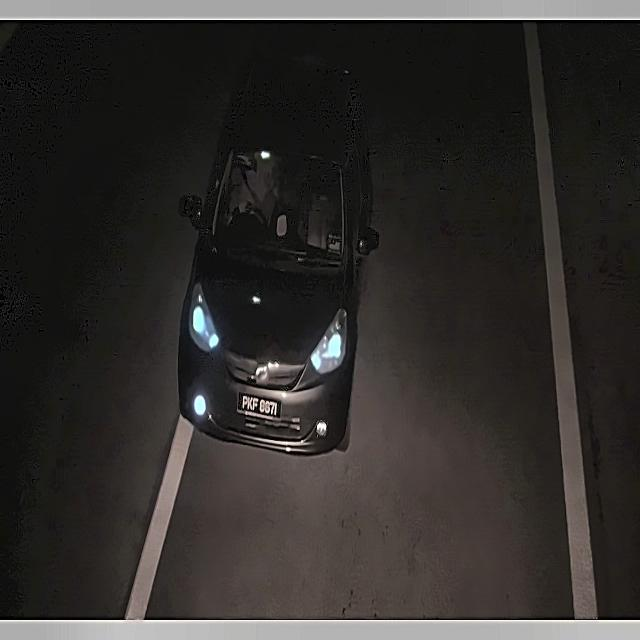car: (234, 387, 286, 426)
